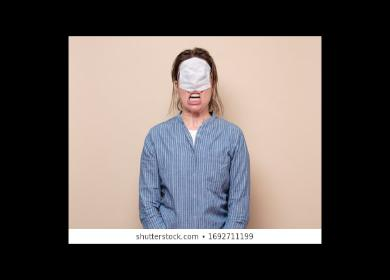mask_weared_incorrect: (179, 63, 211, 110)
